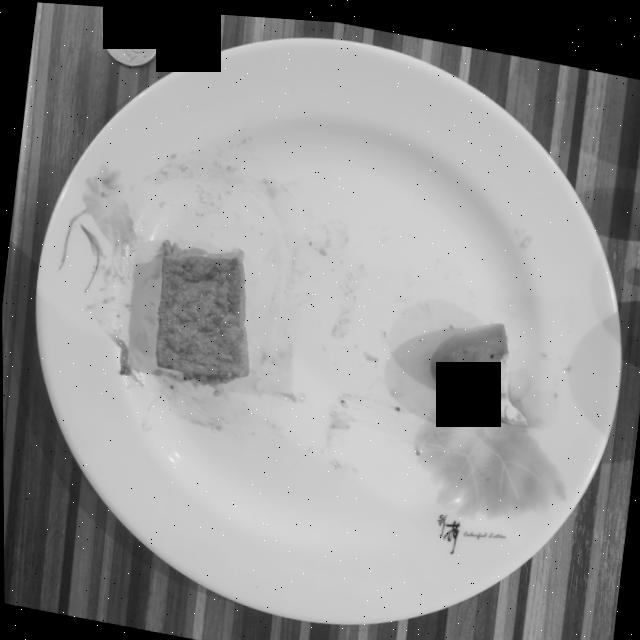coin: (102, 6, 160, 64)
egg tofu: (155, 237, 248, 380)
soy egg: (429, 316, 526, 419)
